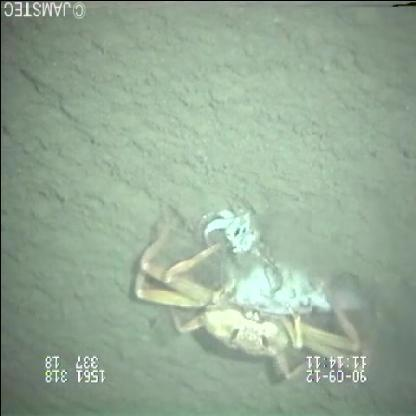Bio: (130, 197, 392, 382)
